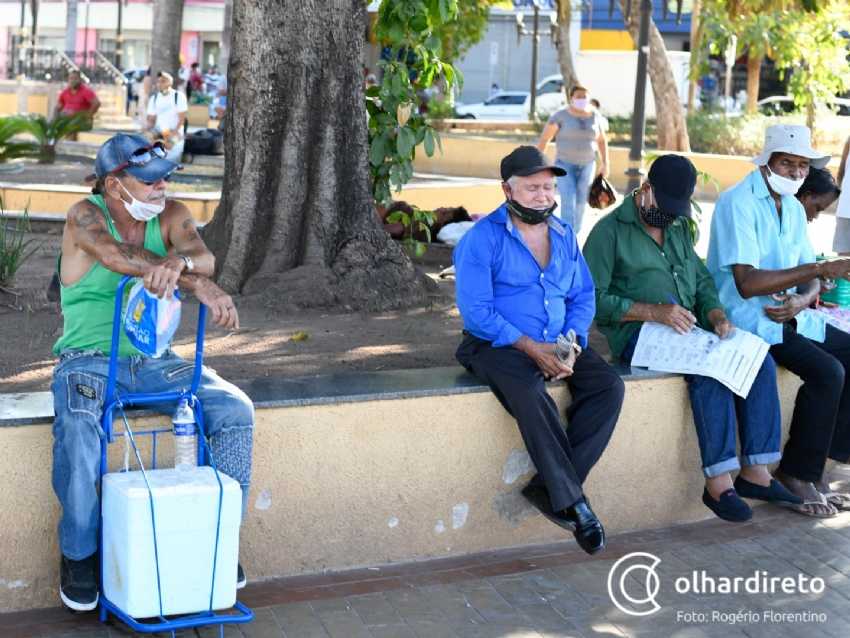mask_weared_incorrect: (103, 165, 171, 224), (501, 168, 558, 226), (762, 147, 813, 197)
